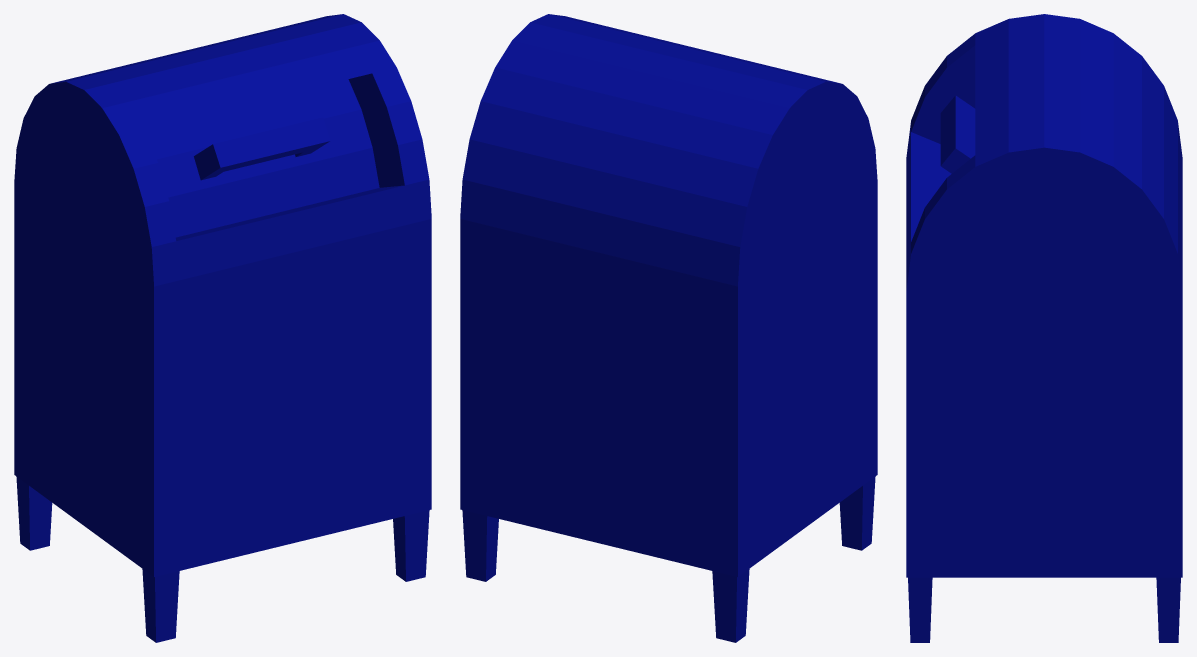
Rendered from MailBox.fbx.
The picture shows the model from 3 angles, left to right: view 1: azimuth 30°, elevation 25°; view 2: azimuth 150°, elevation 25°; view 3: azimuth 270°, elevation 25°; orthographic projection.
Visible parts, largest first — view 1: Cylinder.002; view 2: Cylinder.002; view 3: Cylinder.002.
Boxes of the visible parts, <box> form: Cylinder.002: <box>14,14,431,642</box>; Cylinder.002: <box>460,14,877,642</box>; Cylinder.002: <box>906,14,1182,642</box>.
Bounding box in the file's own units: 200 × 347 × 175.
